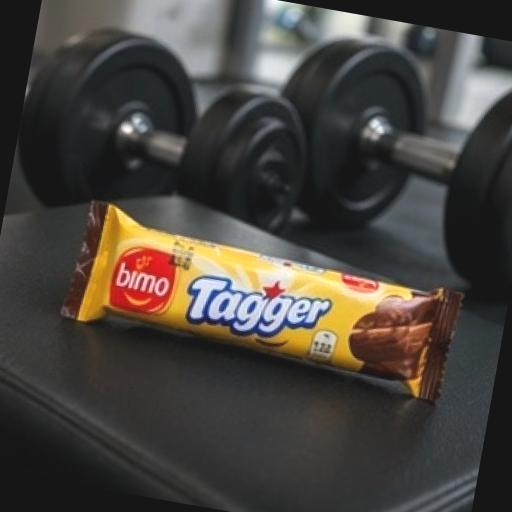tagger: (27, 124, 497, 458)
